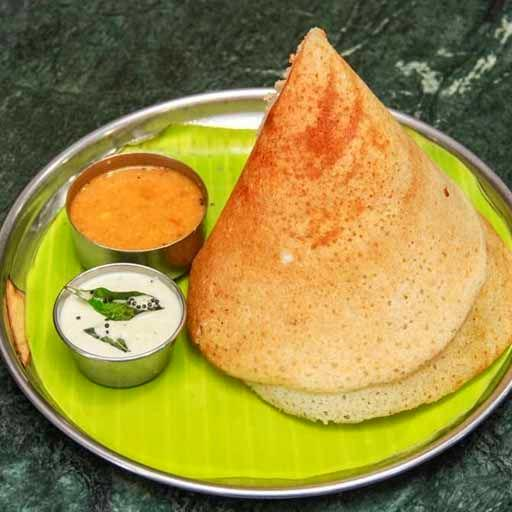dosa: (181, 13, 512, 414)
